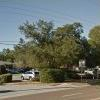Tree: (12, 12, 90, 67)
